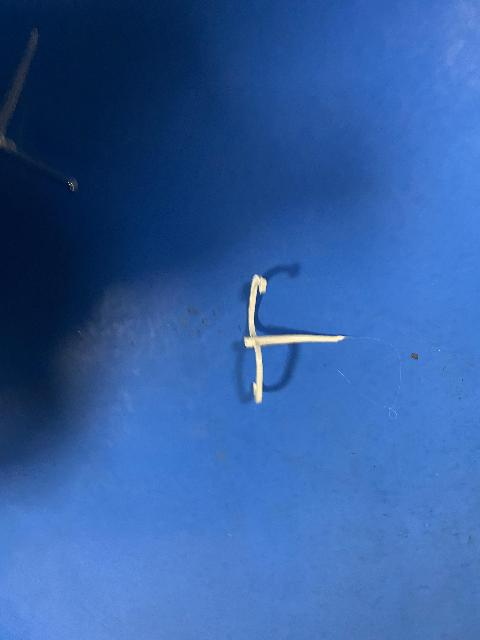Plastik: (224, 270, 351, 405), (0, 22, 76, 194)
